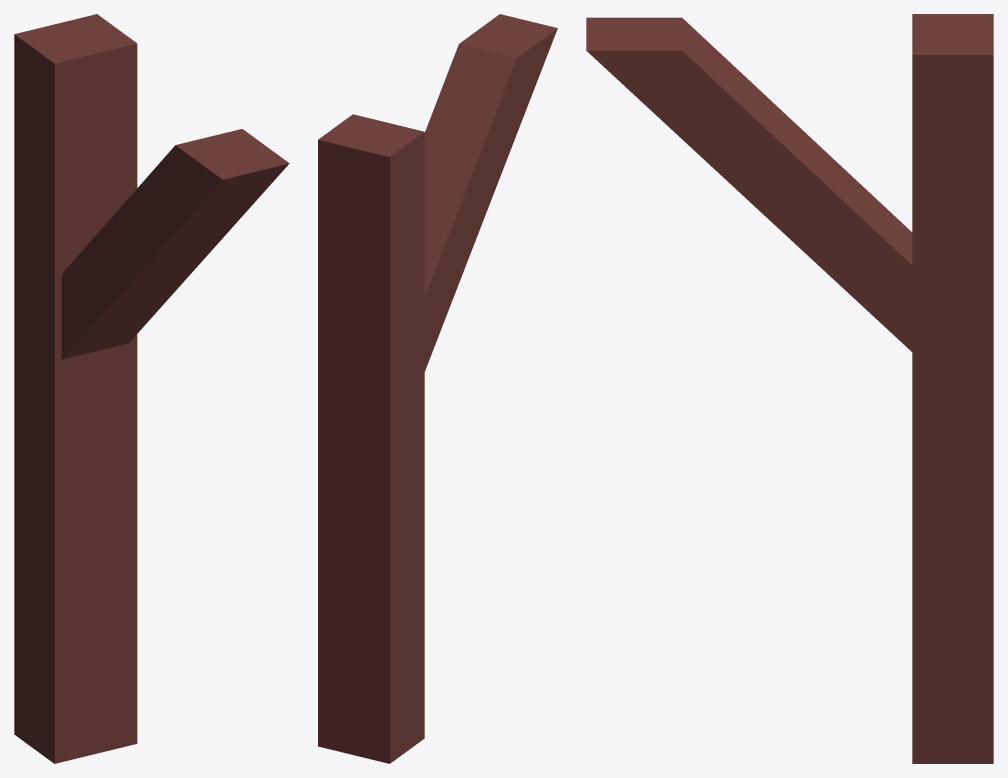
The model's file is Column Vertical 05.fbx.
3 renders of one model, left to right at view 1: azimuth 30°, elevation 25°; view 2: azimuth 150°, elevation 25°; view 3: azimuth 270°, elevation 25°, orthographic. The views are drawn at different scales.
Parts seen in each view (by area): view 1: Column Vertical 05; view 2: Column Vertical 05; view 3: Column Vertical 05.
Part boxes in pixels (x1,y1,x2,y2): Column Vertical 05: (14, 14, 289, 763); Column Vertical 05: (318, 14, 557, 763); Column Vertical 05: (586, 14, 993, 763).
Bounding box in the file's own units: 49.53 × 400 × 208.
